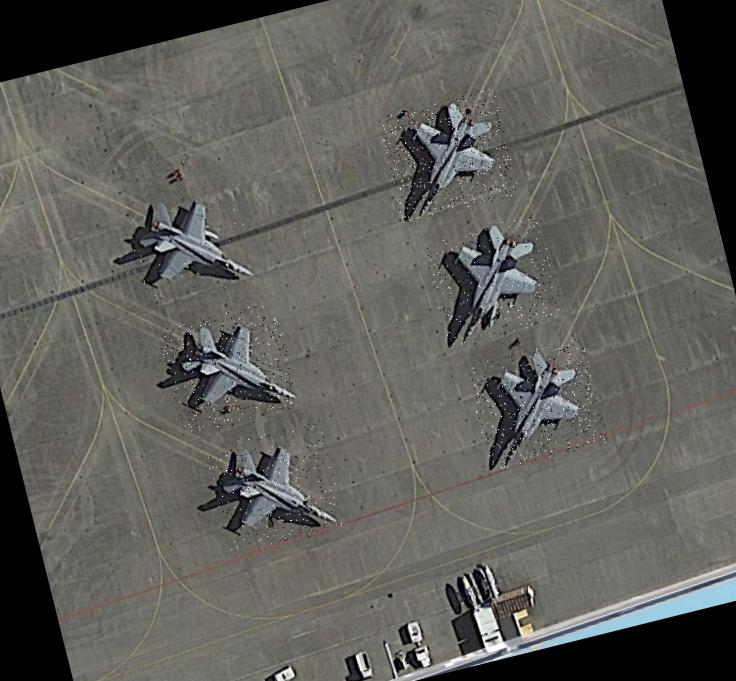A16: (114, 175, 258, 310), (202, 419, 346, 554), (376, 87, 520, 222), (465, 336, 609, 471), (421, 212, 564, 347), (157, 300, 301, 434)
